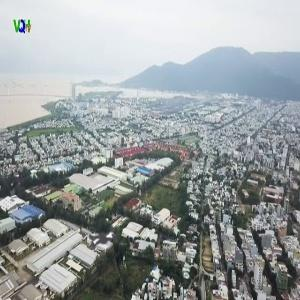drone: (66, 203, 139, 276)
